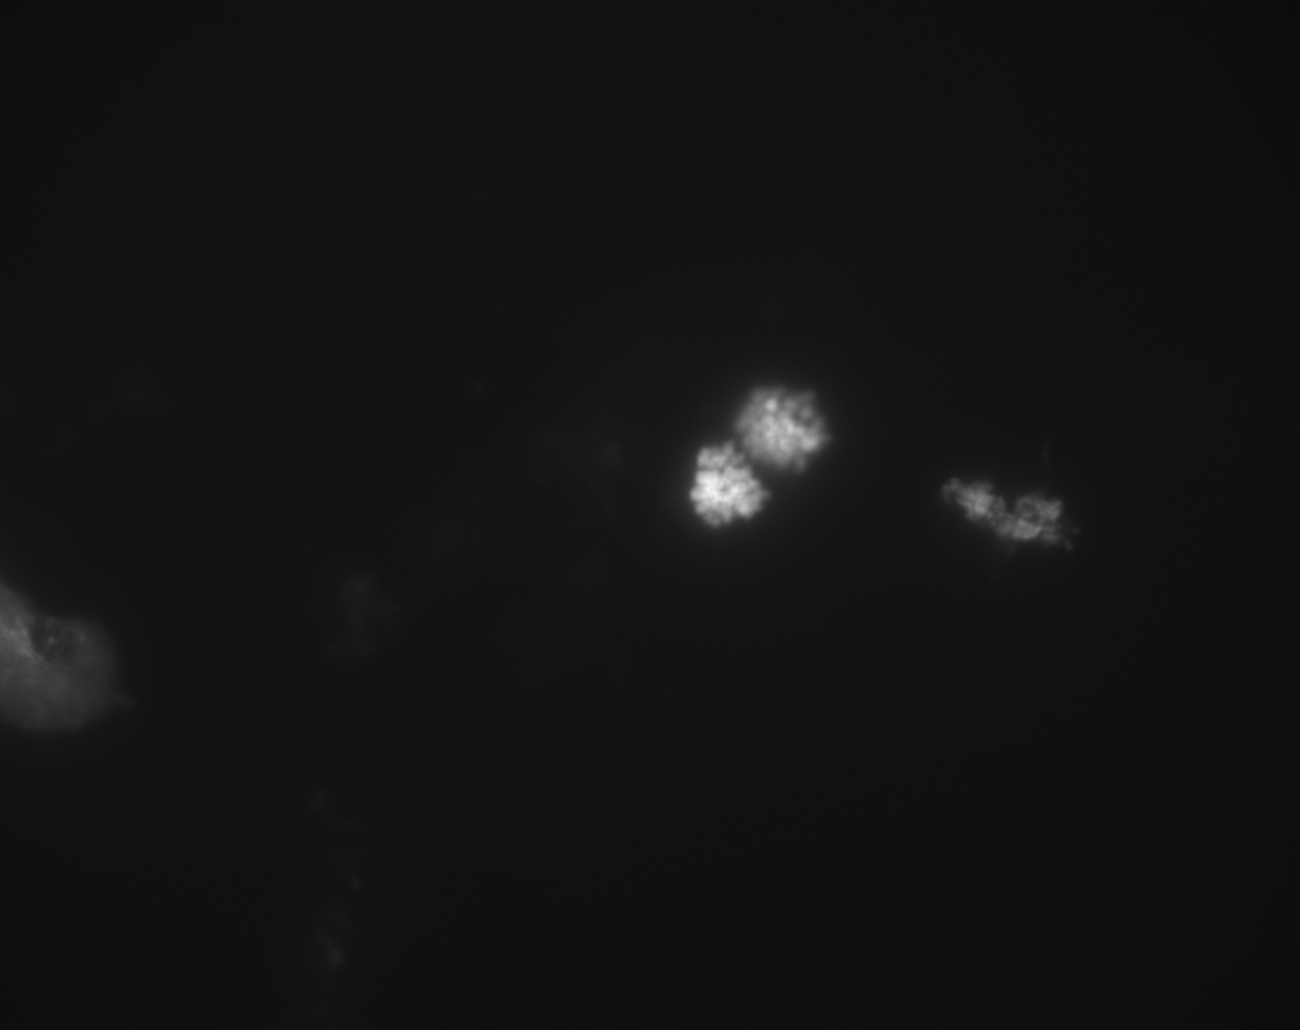Others: (580, 304, 943, 592), (659, 357, 848, 533), (3, 558, 167, 755), (921, 441, 1114, 571)
